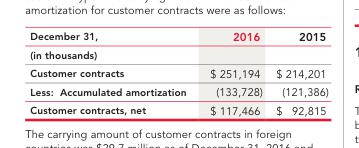table: (29, 29, 327, 117)
table column: (29, 29, 197, 117), (197, 29, 268, 117), (268, 29, 327, 117)
table column header: (29, 29, 327, 45)
table projected row header: (29, 45, 327, 63)
table row: (29, 63, 327, 82), (29, 82, 327, 101), (29, 45, 327, 63), (29, 29, 327, 45), (29, 101, 327, 117)
